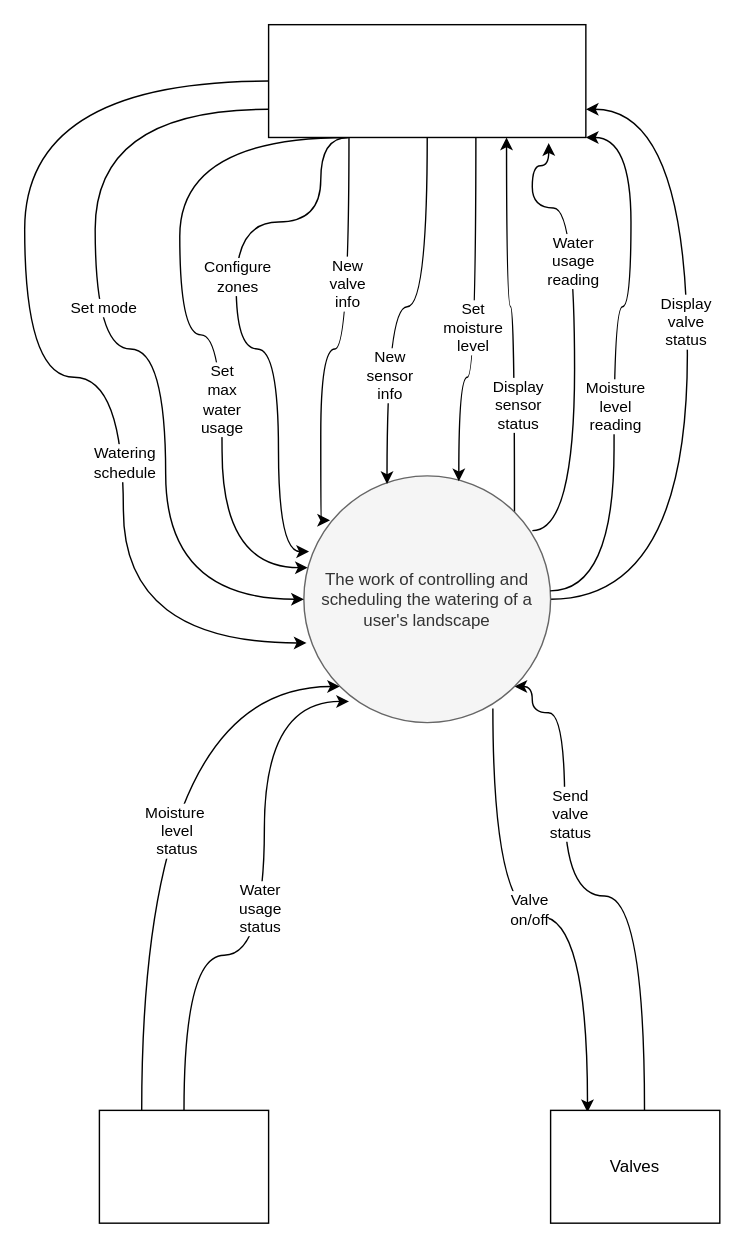
Some shapes in this 744 by 1248 pixel diagram are drawn without their labels. The shapes that lost their labels are listed below. From the top down, each one's box as (x1, y1, x2, y2) in pixels, then its label:
(267, 23, 586, 137): Control Panel
(98, 1109, 269, 1223): Sensors
